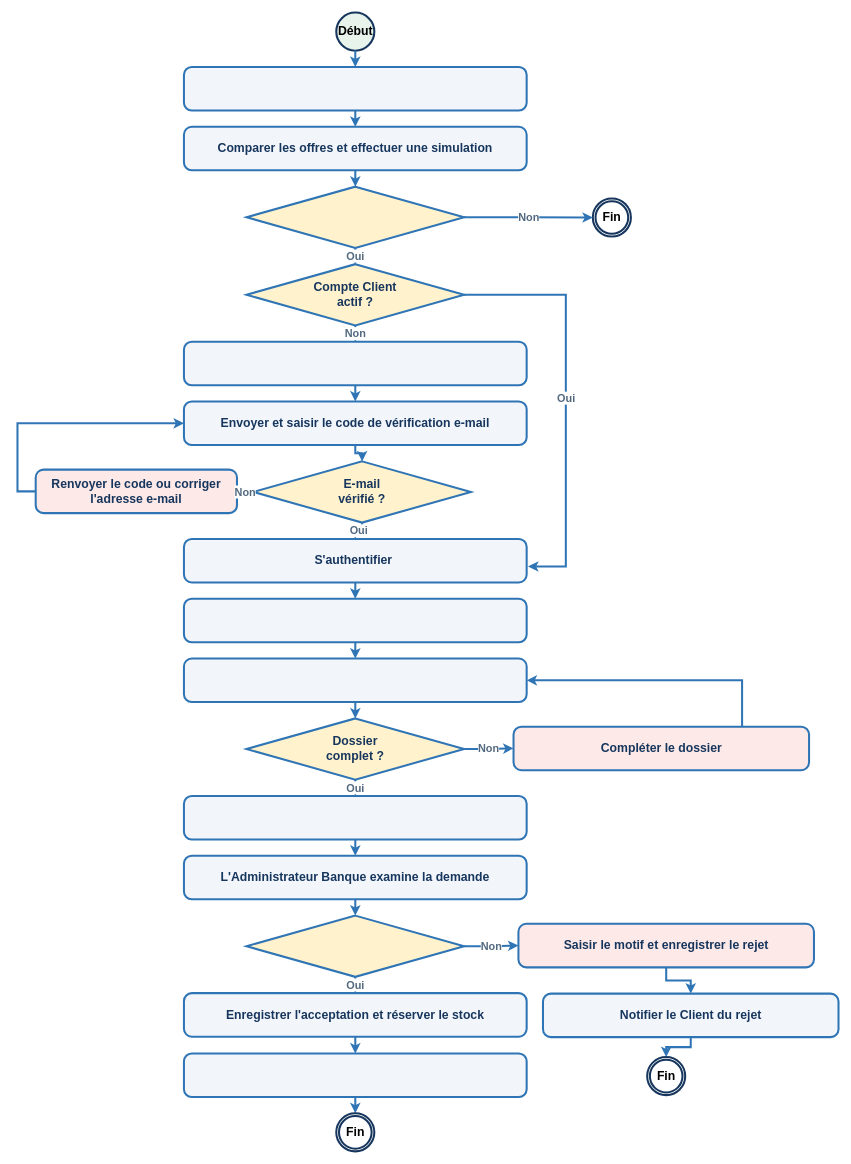
The diagram is 851 pixels wide and 1164 high, and some of its shapes have lost their labels. Here are the shapes that lost their labels. From the top down, the box of each, then its label:
(183, 66, 527, 111): Consulter les produits de la marketplace
(245, 185, 465, 249): Poursuivre vers un financement ?
(183, 340, 527, 386): S'inscrire comme Client
(183, 597, 527, 643): Initier la demande de financement
(183, 657, 527, 703): Renseigner les données et téléverser les justificatifs
(183, 795, 527, 840): Soumettre la demande de financement
(245, 914, 465, 978): Demande acceptée ?
(183, 1052, 527, 1098): Notifier le Client de la décision
